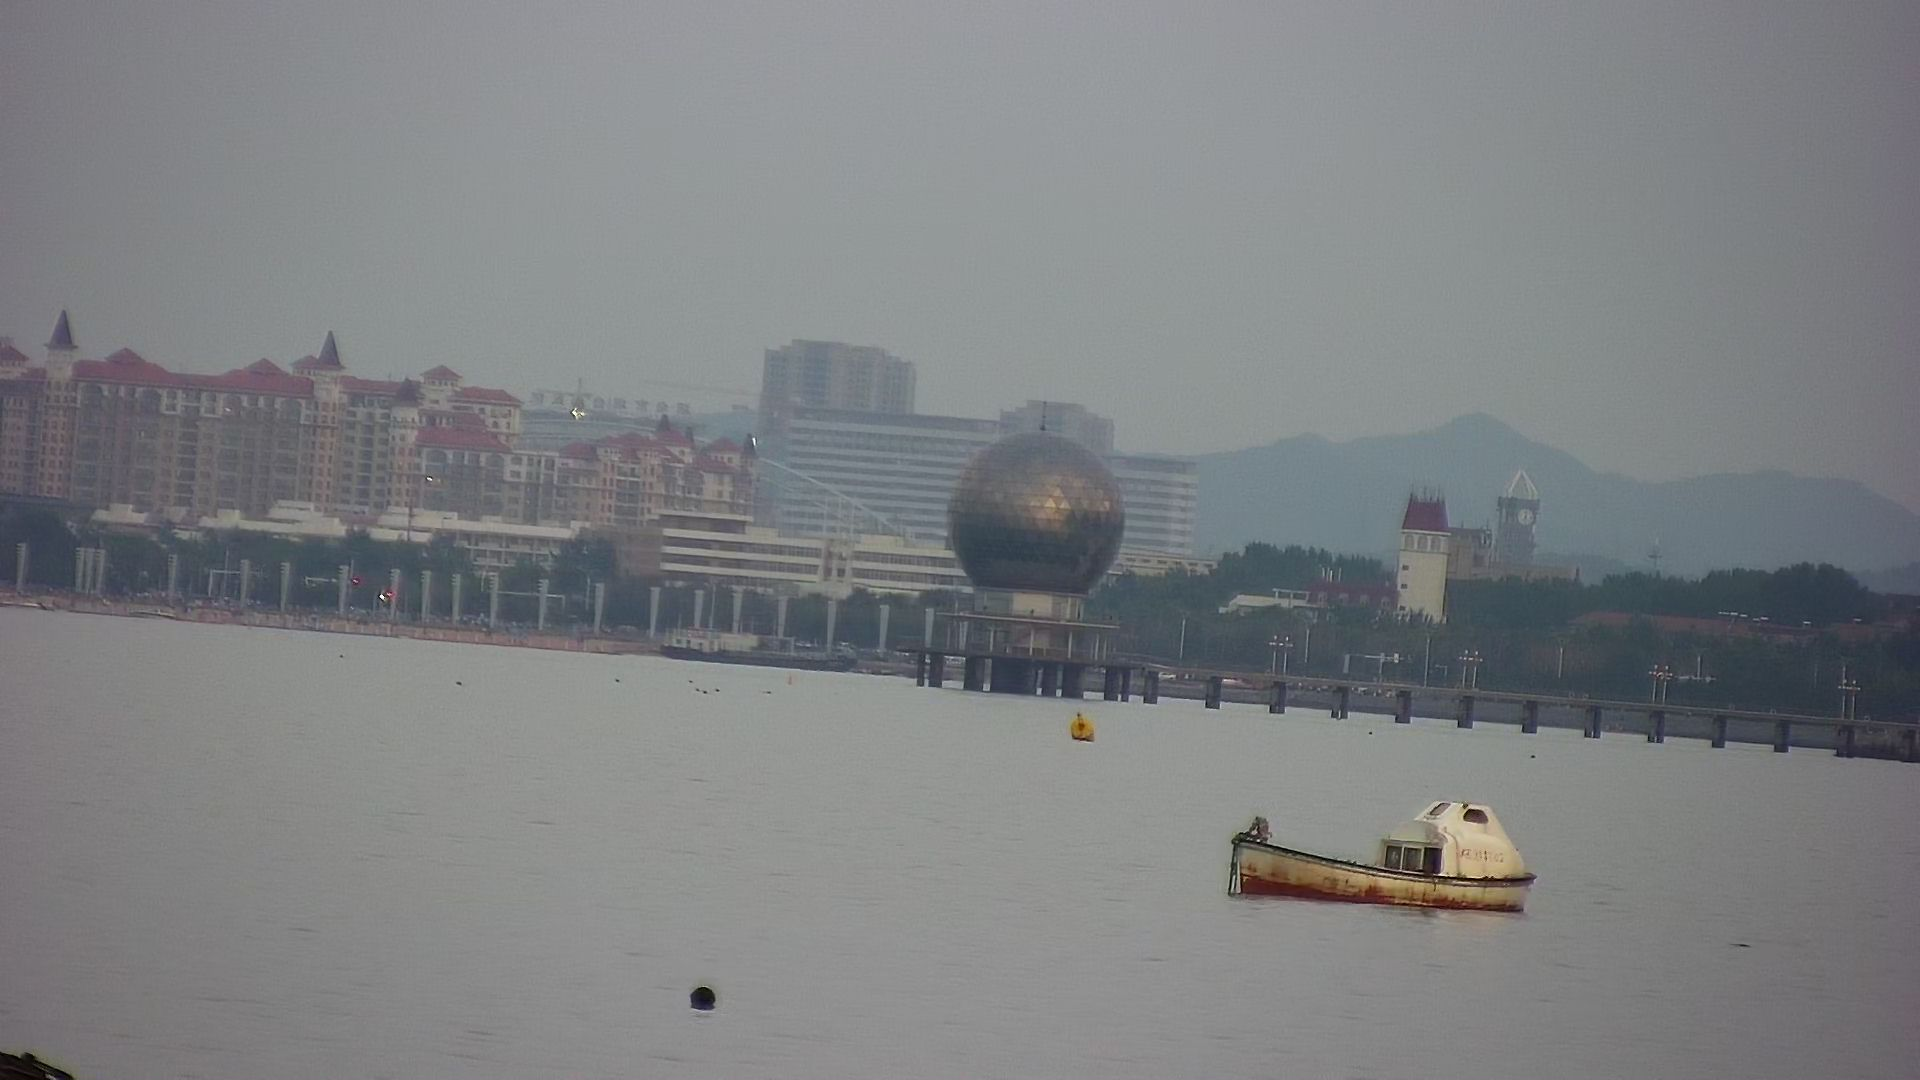ball: (684, 972, 719, 1011)
boat: (1229, 798, 1528, 918)
